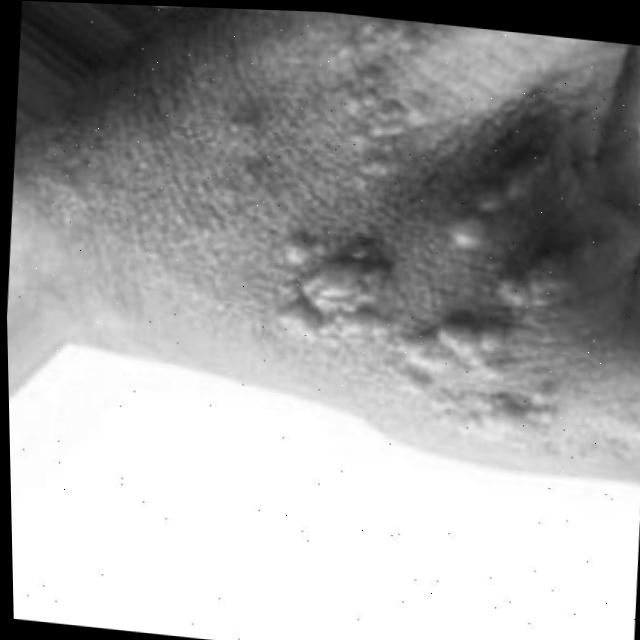Shingles: (278, 181, 553, 426)
